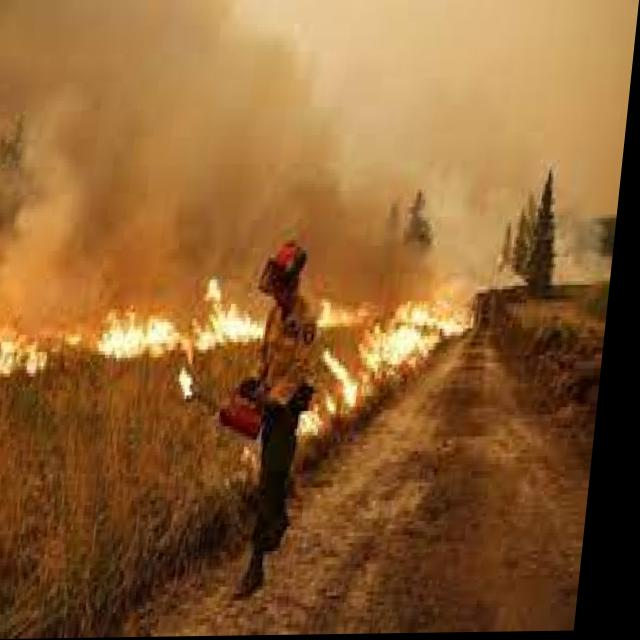Fire: (0, 253, 491, 388), (230, 387, 390, 502)
